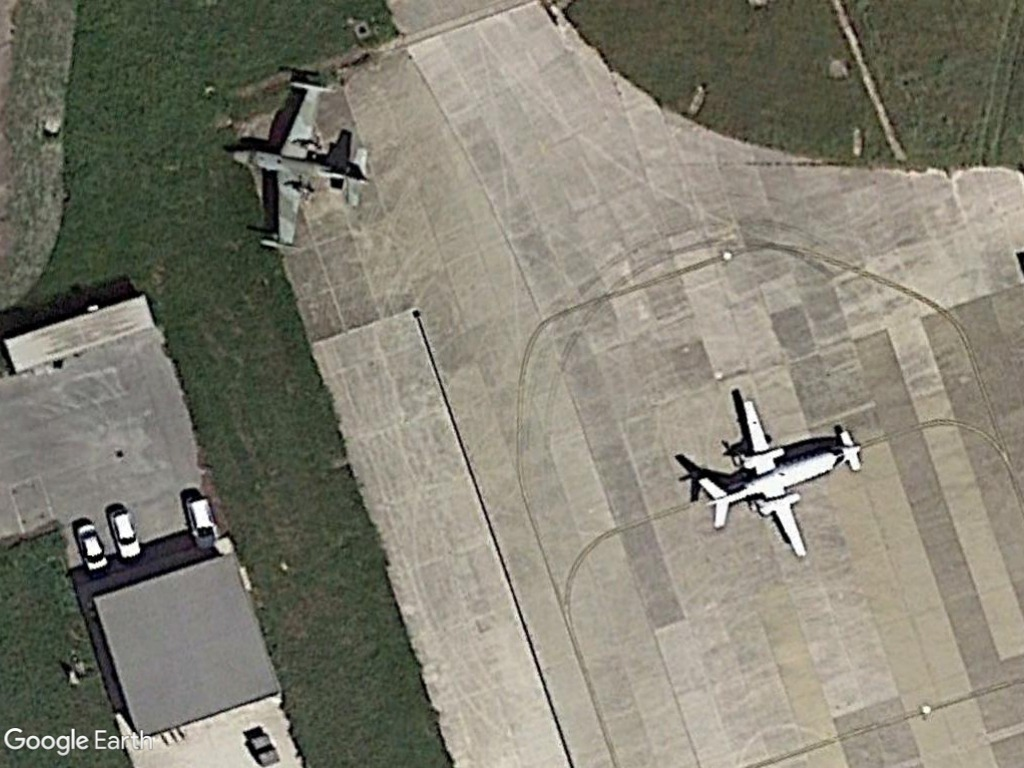car: (180, 488, 223, 555), (105, 503, 144, 567), (72, 520, 108, 575)
trainer: (688, 398, 866, 558)
